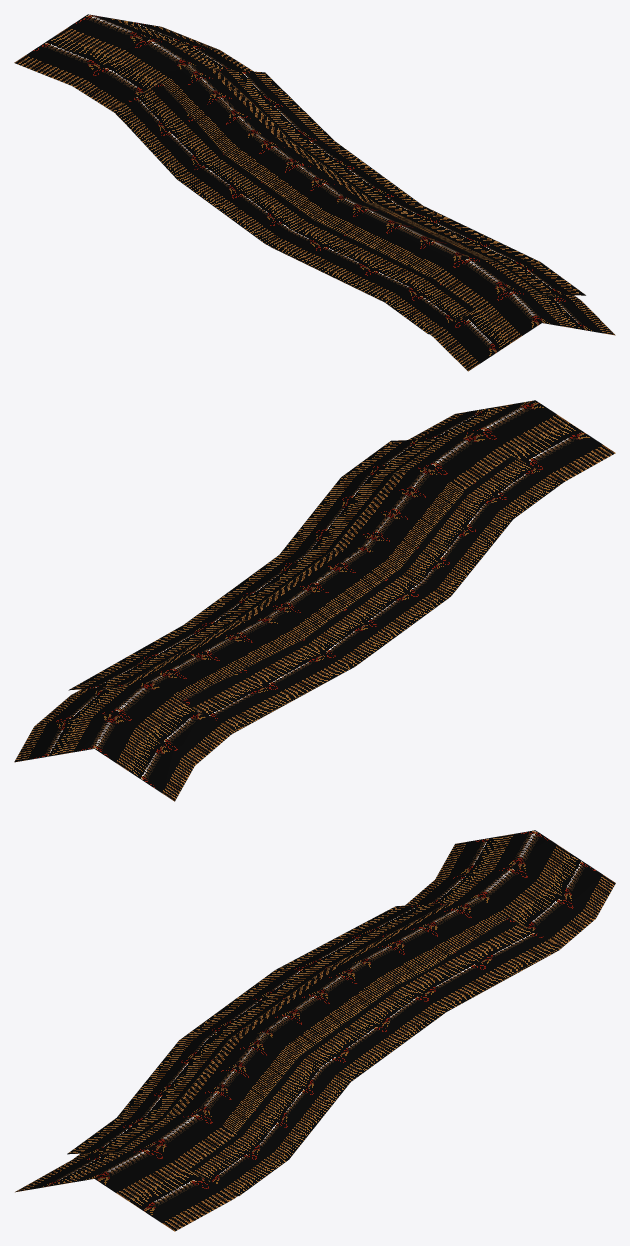
File: 5026musi36.gltf
The picture shows the model from 3 angles, top to bottom: view 1: azimuth 30°, elevation 25°; view 2: azimuth 150°, elevation 25°; view 3: azimuth 330°, elevation 25°; orthographic projection. The views are drawn at different scales.
Visible parts, largest first — view 1: 5026musi36; view 2: 5026musi36; view 3: 5026musi36.
Part boxes in pixels (bbox=[...]): 5026musi36: bbox=[14, 14, 615, 371]; 5026musi36: bbox=[14, 400, 615, 801]; 5026musi36: bbox=[15, 830, 615, 1231].
Bounding box in the file's own units: 0.074 × 0.0115 × 0.2925.
2 materials, 2 textured.
